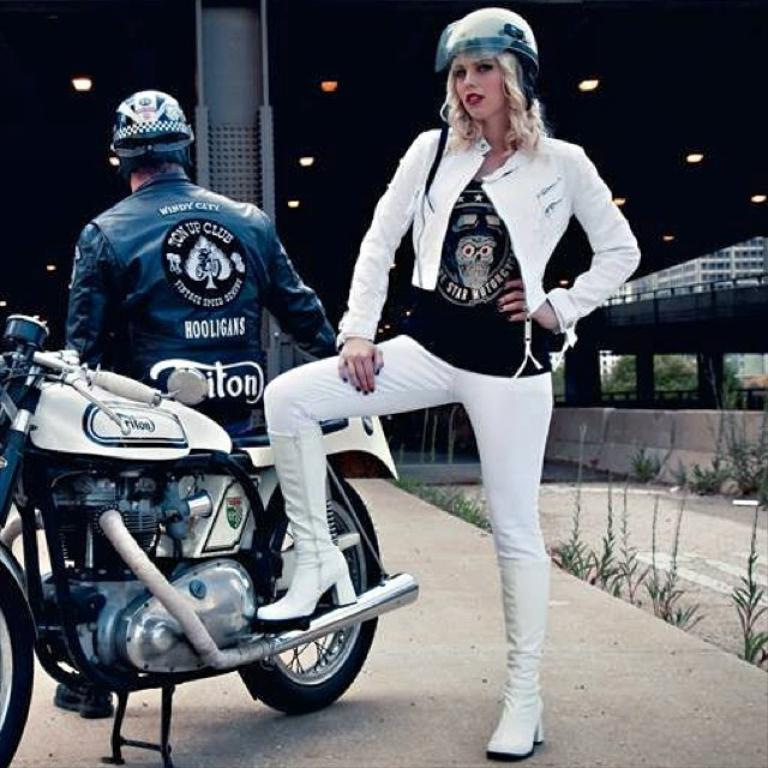helmet: (433, 5, 541, 122), (110, 88, 195, 180)
